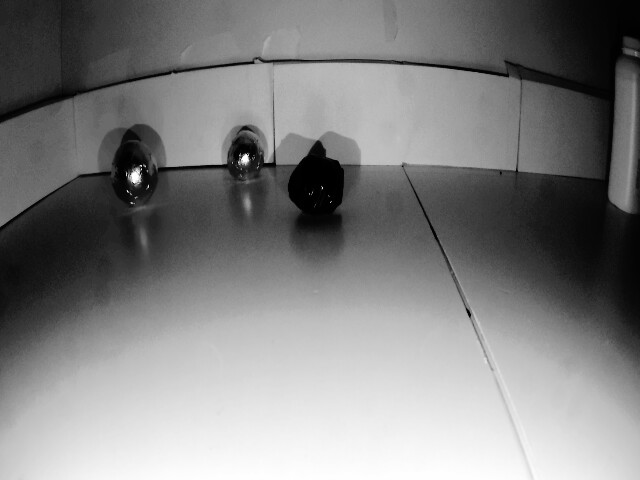black: (106, 141, 163, 203), (222, 128, 268, 181)
silver: (283, 154, 346, 203)
